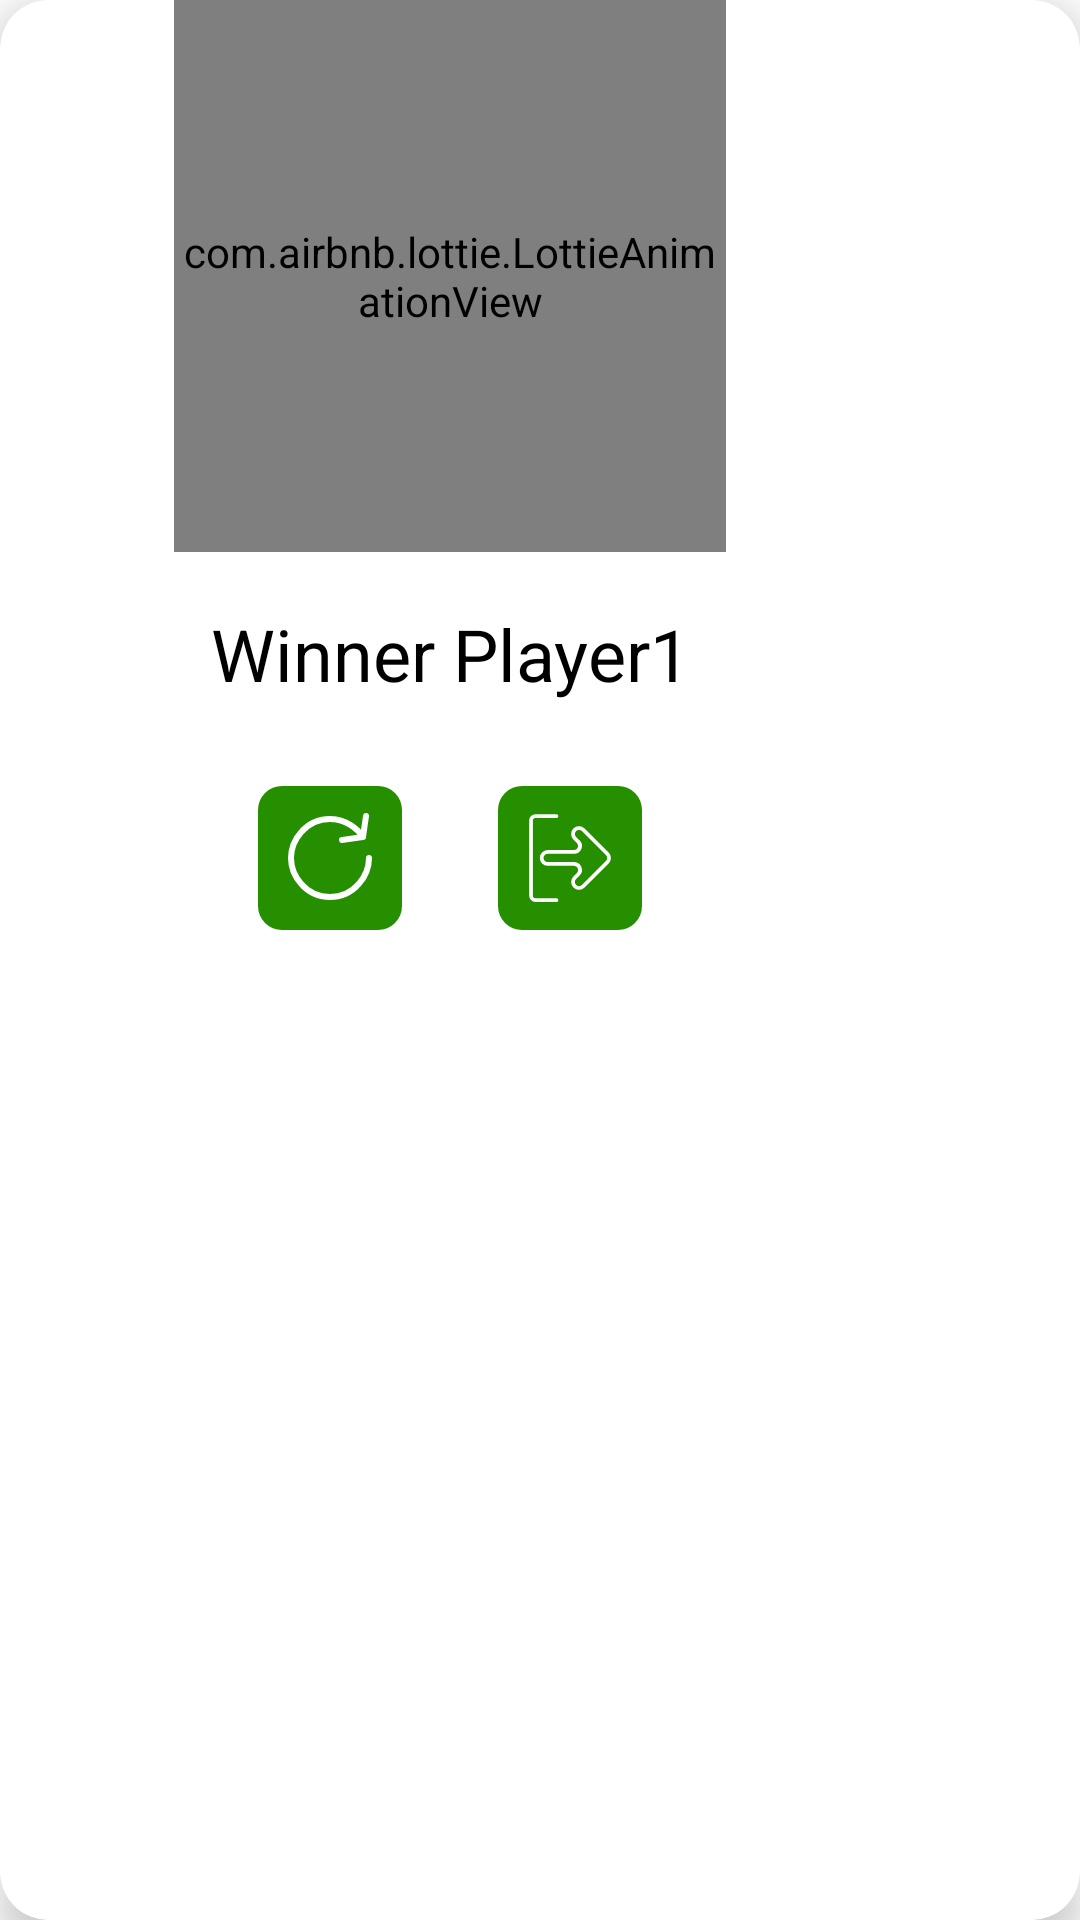

Point at icon controls on the screen. Image size 1080×1920, points as (x,y).
restart: (330,856)
sign out: (570,858)
